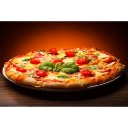pepperonipizza: (7, 48, 121, 84)
